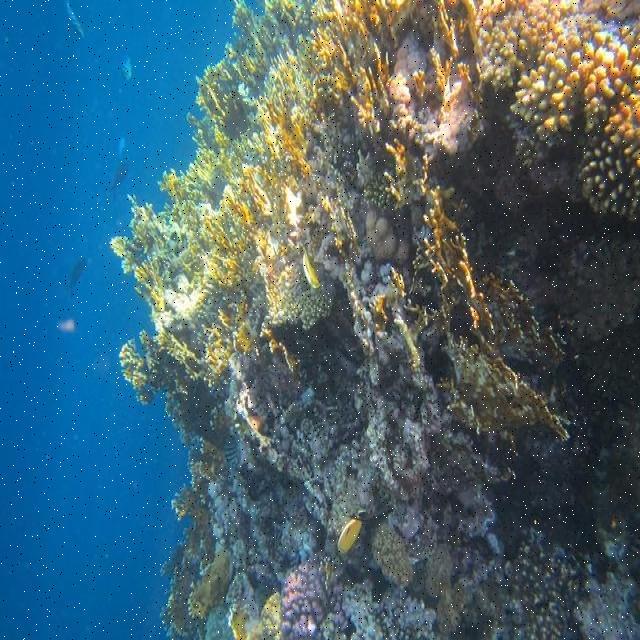reefs: (111, 0, 639, 639)
